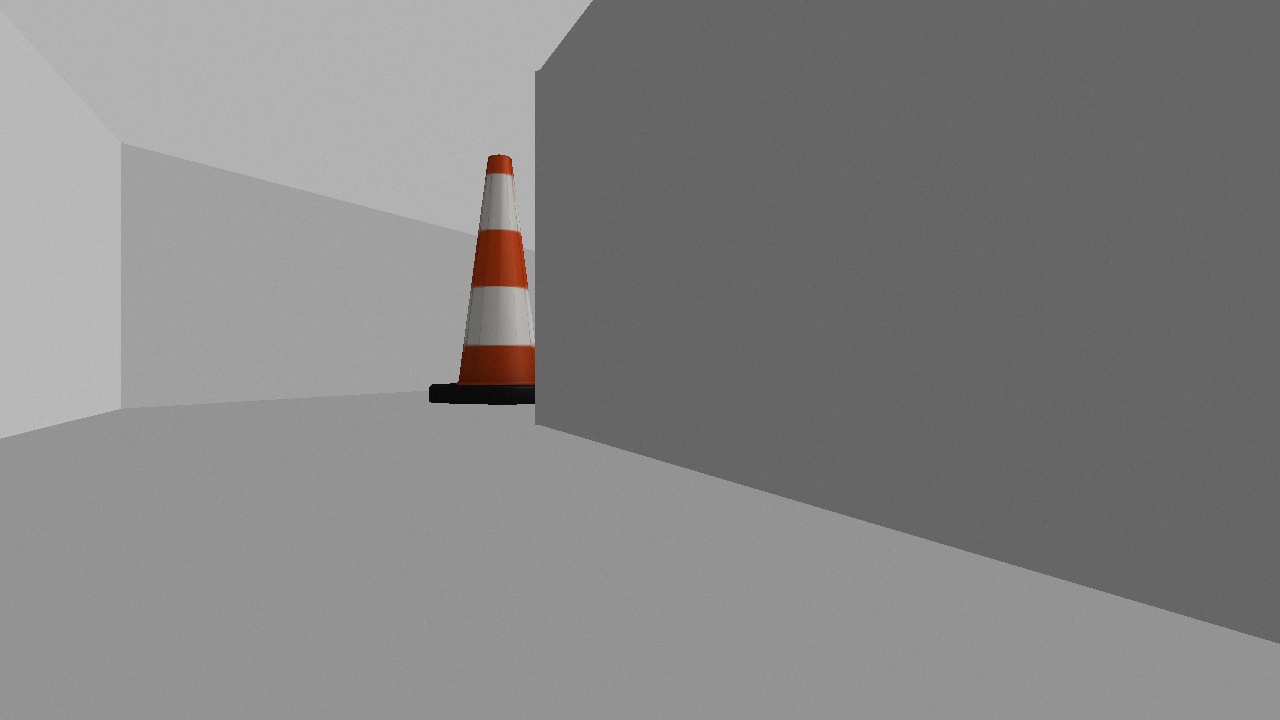barricade: (427, 147, 572, 405)
